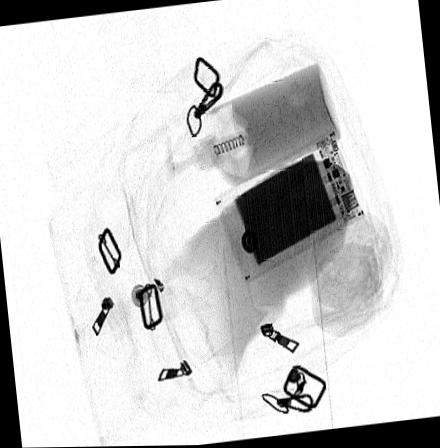Powerbank: (211, 128, 365, 284)
